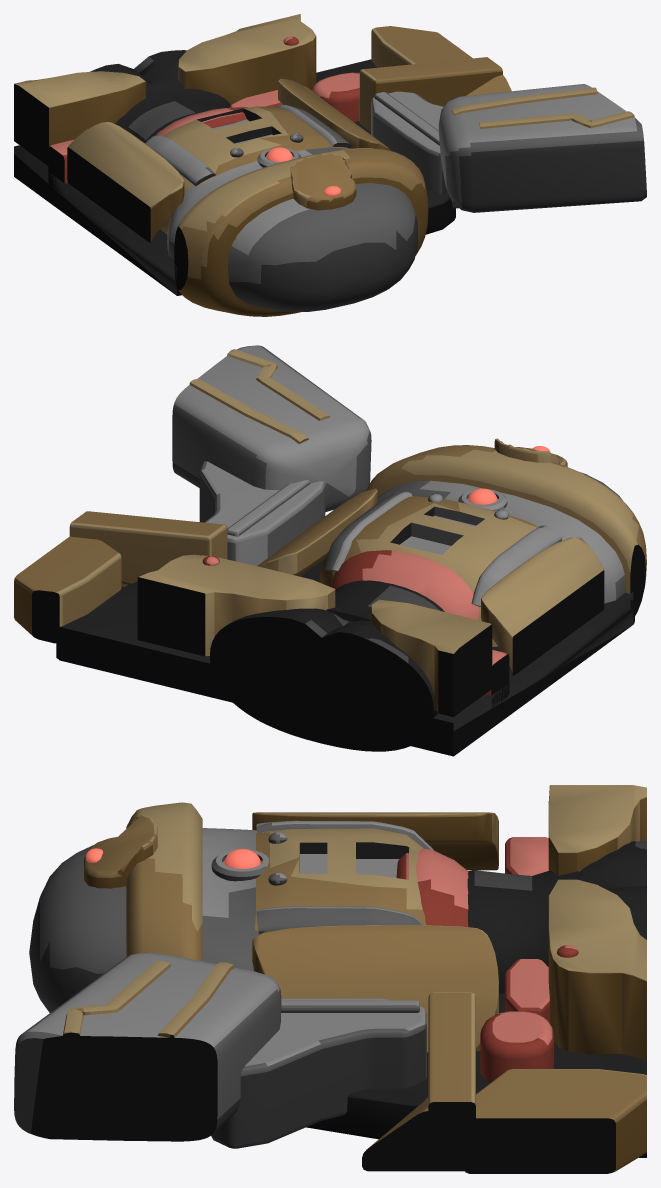
The model's file is tusk_boss_small_121.glb.
The picture shows the model from 3 angles, top to bottom: view 1: azimuth 30°, elevation 25°; view 2: azimuth 150°, elevation 25°; view 3: azimuth 270°, elevation 25°; orthographic projection. The views are drawn at different scales.
Visible parts, largest first — view 1: tusk_boss_small_121; view 2: tusk_boss_small_121; view 3: tusk_boss_small_121.
Part boxes in pixels (x1=…): tusk_boss_small_121: x1=14, y1=14, x2=646, y2=316; tusk_boss_small_121: x1=14, y1=345, x2=646, y2=756; tusk_boss_small_121: x1=14, y1=785, x2=646, y2=1173.
Bounding box in the file's own units: 24 × 8.61 × 23.16.
